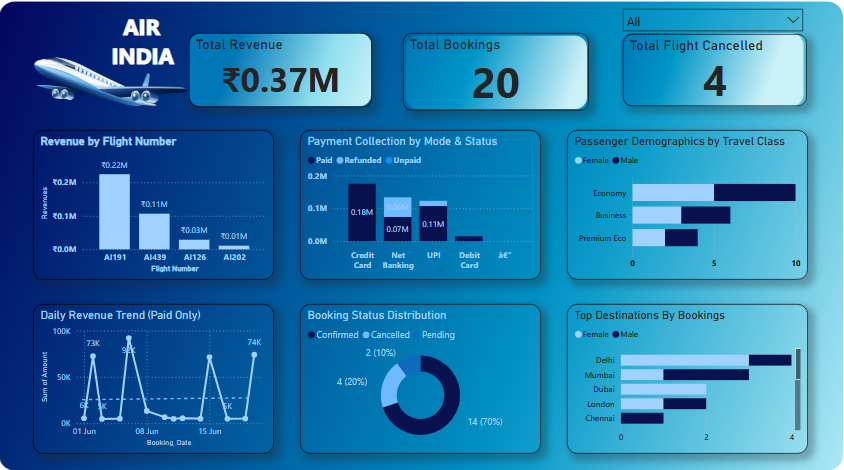

The page's visual inventory and layout, read from the dashboard file:
{"tool":"powerbi","page":{"name":"Page 1","canvas":[1280,720],"ordinal":0},"visuals":[{"type":"donutChart","title":"Booking Status Distribution","fields":{"Category":["passenger_booking_payment_summary.Booking_Status"],"Y":["CountNonNull(passenger_booking_payment_summary.Passenger_ID)"]},"box":[462.9,455.5,354.1,220.4],"z":0},{"type":"columnChart","title":"Payment Collection by Mode & Status","fields":{"Category":["passenger_booking_payment_summary.Payment_Mode"],"Y":["Sum(passenger_booking_payment_summary.Amount)"],"Series":["passenger_booking_payment_summary.Payment_Status"]},"box":[462.9,199.8,354.1,220.4],"z":1000},{"type":"lineChart","title":"Daily Revenue Trend (Paid Only)","fields":{"Category":["passenger_booking_payment_summary.Booking_Date"],"Y":["Sum(passenger_booking_payment_summary.Amount)"]},"box":[70.5,455.5,354.1,220.4],"z":2000},{"type":"barChart","title":"Passenger Demographics by Travel Class","fields":{"Category":["passenger_booking_payment_summary.Travel_Class"],"Y":["CountNonNull(passenger_booking_payment_summary.Passenger_ID)"],"Series":["passenger_booking_payment_summary.Gender"]},"box":[855.2,199.8,354.1,220.4],"z":3000},{"type":"barChart","title":"Top Destinations By Bookings","fields":{"Category":["passenger_booking_payment_summary.Destination"],"Y":["CountNonNull(passenger_booking_payment_summary.Passenger_ID)"],"Series":["passenger_booking_payment_summary.Gender"]},"box":[855.2,455.5,354.1,220.4],"z":4000},{"type":"clusteredColumnChart","title":"Revenue by Flight Number ","fields":{"Category":["flight_revenue_summary.Flight_No"],"Y":["Sum(flight_revenue_summary.Total_Revenue)"]},"box":[70.5,199.8,354.1,220.4],"z":5000},{"type":"card","title":"Total Revenue","fields":{"Values":["Sum(flight_revenue_summary.Total_Revenue)"]},"box":[299.8,57.3,268.9,108.7],"z":6000},{"type":"card","title":"Total Bookings","fields":{"Values":["CountNonNull(passenger_booking_payment_summary.Passenger_ID)"]},"box":[613.8,57.8,272.5,114.2],"z":7000},{"type":"card","title":"Total Flight Cancelled","fields":{"Values":["CountNonNull(passenger_booking_payment_summary.Flight_Status)"]},"box":[937.5,58.8,270.4,105.8],"z":8000},{"type":"image","box":[60.2,38.2,243.9,182.2],"z":9000},{"type":"textbox","box":[145.5,20.6,158.7,108.7],"z":10000},{"type":"slicer","fields":{"Values":["passenger_booking_payment_summary.Booking_Date"]},"box":[927.7,12.4,284.9,52.3],"z":11000}]}

Visuals, with their boxes in screenshot pixels (x1, y1, x2, y2), scaled from the page's 1280x720 canvas onto the 844x470 screenshot:
"Booking Status Distribution" donutChart: x1=305, y1=297, x2=539, y2=441
"Payment Collection by Mode & Status" columnChart: x1=305, y1=130, x2=539, y2=274
"Daily Revenue Trend (Paid Only)" lineChart: x1=46, y1=297, x2=280, y2=441
"Passenger Demographics by Travel Class" barChart: x1=564, y1=130, x2=797, y2=274
"Top Destinations By Bookings" barChart: x1=564, y1=297, x2=797, y2=441
"Revenue by Flight Number " clusteredColumnChart: x1=46, y1=130, x2=280, y2=274
"Total Revenue" card: x1=198, y1=37, x2=375, y2=108
"Total Bookings" card: x1=405, y1=38, x2=584, y2=112
"Total Flight Cancelled" card: x1=618, y1=38, x2=796, y2=107
image: x1=40, y1=25, x2=201, y2=144
textbox: x1=96, y1=13, x2=201, y2=84
slicer - passenger_booking_payment_summary.Booking_Date: x1=612, y1=8, x2=800, y2=42
